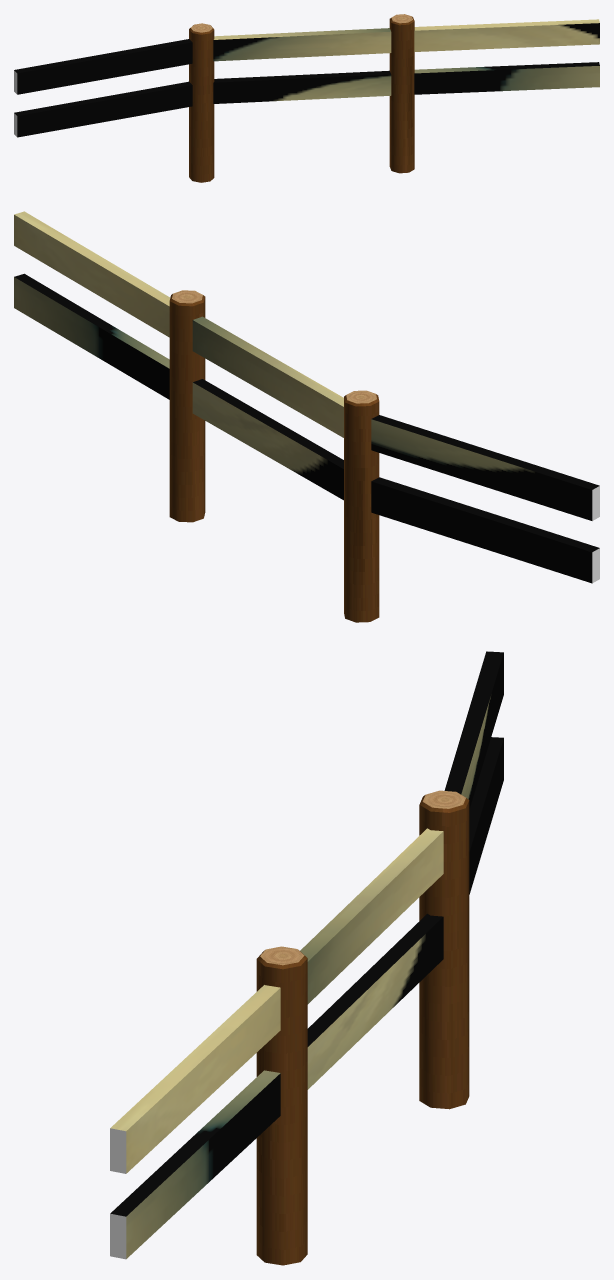
Rendered from Path_Fence_Esse_2x3.fbx.
3 views of the same model, one above another, from view 1: azimuth 30°, elevation 25°; view 2: azimuth 150°, elevation 25°; view 3: azimuth 270°, elevation 25° (orthographic). The views are drawn at different scales.
Parts seen in each view (by area): view 1: Path_Fence_Esse_2x3; view 2: Path_Fence_Esse_2x3; view 3: Path_Fence_Esse_2x3.
Part boxes in pixels (box(x1,y1,x2,y2)): Path_Fence_Esse_2x3: box(14, 14, 599, 182); Path_Fence_Esse_2x3: box(14, 211, 599, 622); Path_Fence_Esse_2x3: box(110, 651, 503, 1265).
Size of the model in its own units: 301 by 87.5 by 104.
